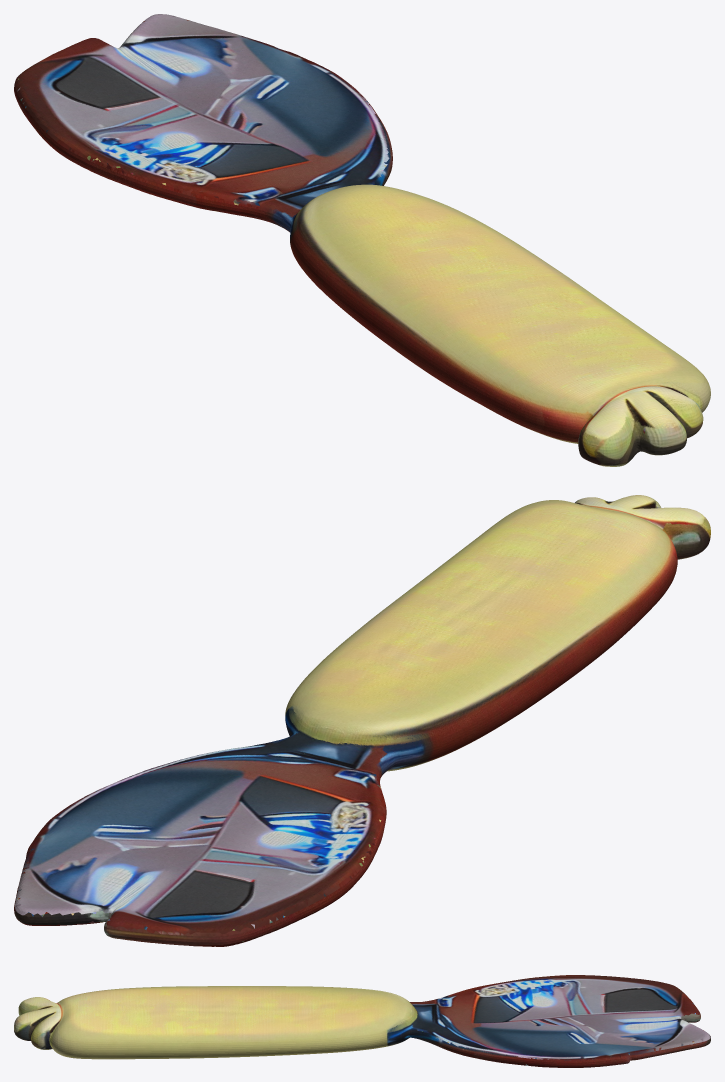
Rendered from image_0003_segmented.glb.
3 renders of one model, top to bottom at view 1: azimuth 30°, elevation 25°; view 2: azimuth 150°, elevation 25°; view 3: azimuth 270°, elevation 25°, orthographic. The views are drawn at different scales.
Parts seen in each view (by area): view 1: tmpqrmuafqa.ply; view 2: tmpqrmuafqa.ply; view 3: tmpqrmuafqa.ply.
Boxes of the visible parts, box(x1,y1,x2,y2) form: tmpqrmuafqa.ply: box(14, 14, 710, 466); tmpqrmuafqa.ply: box(14, 495, 710, 946); tmpqrmuafqa.ply: box(14, 975, 710, 1067).
Bounding box in the file's own units: 0.5799 × 0.1146 × 1.99.
1 material, 1 textured.
